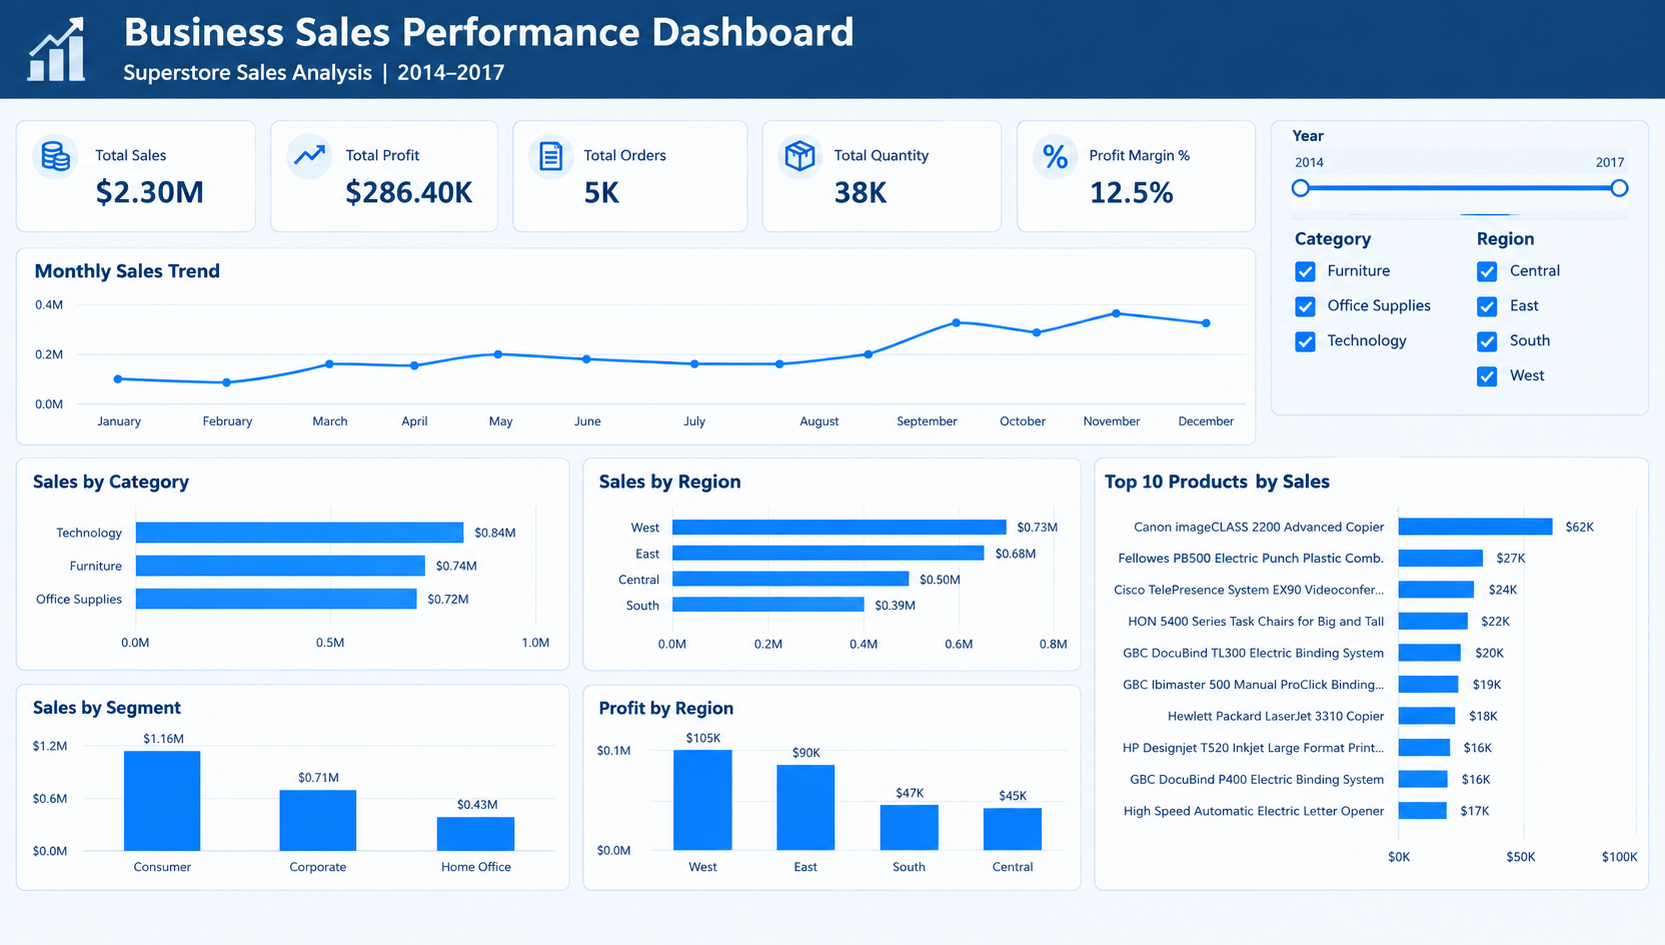

Layout of this report page (visuals, bound fields, positions):
{"tool":"powerbi","page":{"name":"Page 1","canvas":[1920,1080],"ordinal":0},"visuals":[{"type":"cardVisual","fields":{"Data":["DateTable.Total Profit"]},"box":[300,62,300,150],"z":0},{"type":"cardVisual","fields":{"Data":["DateTable.Total Orders"]},"box":[600,64,300,150],"z":1000},{"type":"cardVisual","fields":{"Data":["DateTable.Total Quantity"]},"box":[900,64,300,150],"z":2000},{"type":"cardVisual","fields":{"Data":["DateTable.Profit Margin %"]},"box":[1200,66,300,150],"z":3000},{"type":"cardVisual","fields":{"Data":["DateTable.Total Sales"]},"box":[0,62,300,150],"z":4000},{"type":"lineChart","title":"Monthly Sales Trend","fields":{"Category":["DateTable.Date.Variation.Date Hierarchy.Month"],"Y":["Sum(Sample - Superstore.Sales)"]},"box":[0,210,1920,230],"z":5000},{"type":"clusteredBarChart","title":"Sales By Category","fields":{"Category":["Sample - Superstore.Category"],"Y":["Sum(Sample - Superstore.Sales)"]},"box":[0,440,960,255],"z":6000},{"type":"clusteredBarChart","title":"Sales By Region","fields":{"Category":["Sample - Superstore.Region"],"Y":["Sum(Sample - Superstore.Sales)"]},"box":[960,440,960,255],"z":6001},{"type":"clusteredBarChart","title":"Top 10 Products by Sales","fields":{"Category":["Sample - Superstore.Product Name"],"Y":["DateTable.Total Sales"]},"box":[0,695,960,285],"z":6002},{"type":"clusteredColumnChart","title":"Profit By Region","fields":{"Category":["Sample - Superstore.Region"],"Y":["DateTable.Total Profit"]},"box":[960,695,960,285],"z":6003},{"type":"clusteredColumnChart","title":"Sales By Segment","fields":{"Category":["Sample - Superstore.Segment"],"Y":["DateTable.Total Sales"]},"box":[0,982,1920,98],"z":6004},{"type":"slicer","fields":{"Values":["DateTable.Year"]},"box":[1556,24,288,150],"z":6005},{"type":"slicer","fields":{"Values":["Sample - Superstore.Region"]},"box":[660,100,300,150],"z":6006},{"type":"slicer","fields":{"Values":["Sample - Superstore.Category"]},"box":[1001.7,250,300,150],"z":6007}]}

Visuals, with their boxes in screenshot pixels (x1, y1, x2, y2), scaled from the page's 1920x1080 canvas onto the 1665x945 screenshot:
cardVisual - DateTable.Total Profit: bbox=[260, 54, 520, 186]
cardVisual - DateTable.Total Orders: bbox=[520, 56, 780, 187]
cardVisual - DateTable.Total Quantity: bbox=[780, 56, 1041, 187]
cardVisual - DateTable.Profit Margin %: bbox=[1041, 58, 1301, 189]
cardVisual - DateTable.Total Sales: bbox=[0, 54, 260, 186]
"Monthly Sales Trend" lineChart: bbox=[0, 184, 1664, 385]
"Sales By Category" clusteredBarChart: bbox=[0, 385, 832, 608]
"Sales By Region" clusteredBarChart: bbox=[832, 385, 1664, 608]
"Top 10 Products by Sales" clusteredBarChart: bbox=[0, 608, 832, 858]
"Profit By Region" clusteredColumnChart: bbox=[832, 608, 1664, 858]
"Sales By Segment" clusteredColumnChart: bbox=[0, 859, 1664, 944]
slicer - DateTable.Year: bbox=[1349, 21, 1599, 152]
slicer - Sample - Superstore.Region: bbox=[572, 88, 832, 219]
slicer - Sample - Superstore.Category: bbox=[869, 219, 1129, 350]
